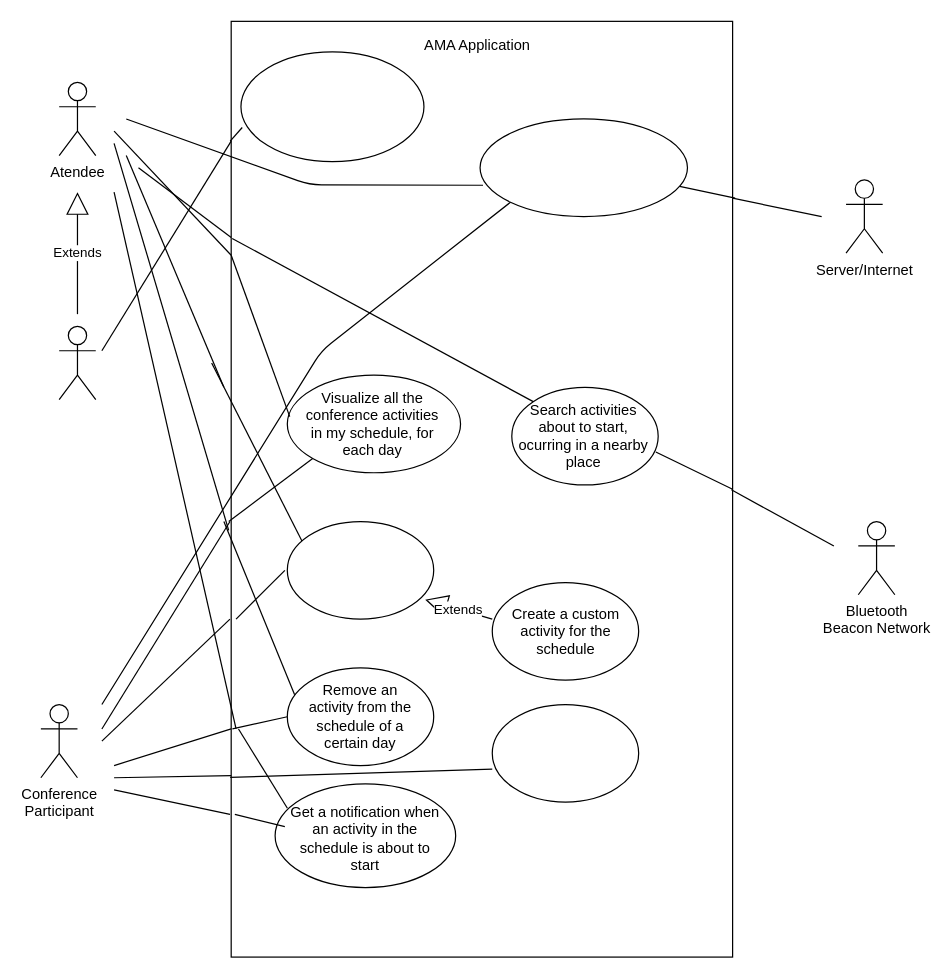
The diagram is 950 pixels wide and 978 high, and some of its shapes have lost their labels. Here are the shapes that lost their labels. From the top down, the centre of each, then its label:
At (332,106): "Get custom translated information to help me navigate in a foreign place".
At (583,167): "Access the information about the conference sessions, people and items".
At (77,362): "Foreign Atendee".
At (360,569): "Add an activity to the schedule of a certain day".
At (565,752): "Update the apps information about an event im organizing".
